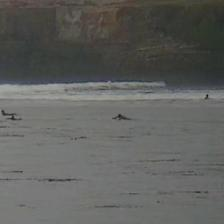surfer: (113, 113, 132, 122), (1, 110, 15, 117), (6, 116, 23, 121), (204, 93, 210, 100)
